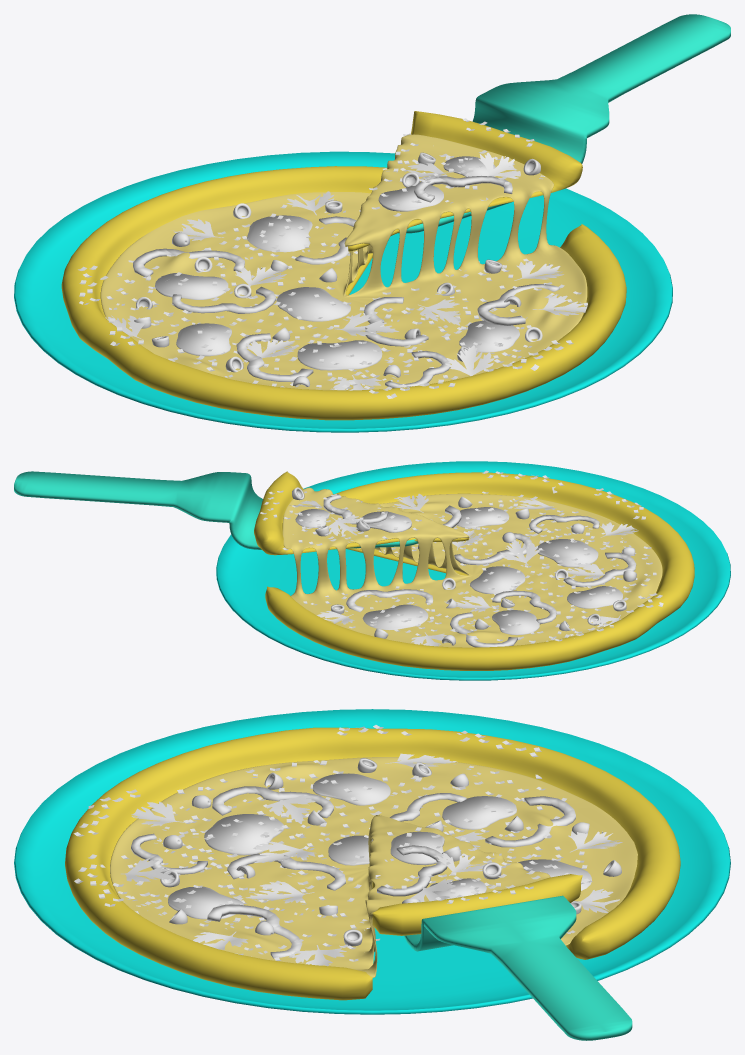
File: pizza.glb
The picture shows the model from 3 angles, top to bottom: view 1: azimuth 30°, elevation 25°; view 2: azimuth 150°, elevation 25°; view 3: azimuth 270°, elevation 25°; orthographic projection. The views are drawn at different scales.
Visible parts, largest first — view 1: cheese_Circle, dough_Cylinder, plate_Circle.001, metal_Plane.578, tomato.003_Cylinder.003, tomato.006_Cylinder.006, tomato.001_Cylinder.001, tomato.005_Cylinder.005, tomato.004_Cylinder.004, tomato.002_Cylinder.002, tomato.007_Cylinder.007, pepper.002_Plane.002 (+9 smaller); view 2: cheese_Circle, dough_Cylinder, plate_Circle.001, metal_Plane.578, tomato.003_Cylinder.003, tomato.006_Cylinder.006, tomato.001_Cylinder.001, tomato.005_Cylinder.005, tomato.004_Cylinder.004, tomato.002_Cylinder.002, pepper.002_Plane.002, pepper.004_Plane.004 (+10 smaller); view 3: cheese_Circle, plate_Circle.001, dough_Cylinder, metal_Plane.578, tomato.003_Cylinder.003, tomato.004_Cylinder.004, tomato.005_Cylinder.005, tomato.002_Cylinder.002, pepper.003_Plane.003, pepper.001_Plane.001, pepper.002_Plane.002, pepper_Plane (+15 smaller).
Part boxes in pixels (x1,y1,x2,y2): cheese_Circle: [100, 134, 587, 390]; dough_Cylinder: [61, 111, 626, 420]; plate_Circle.001: [14, 151, 672, 432]; metal_Plane.578: [398, 14, 730, 233]; tomato.003_Cylinder.003: [297, 340, 382, 370]; tomato.006_Cylinder.006: [247, 215, 312, 252]; tomato.001_Cylinder.001: [276, 287, 350, 321]; tomato.005_Cylinder.005: [155, 273, 228, 299]; tomato.004_Cylinder.004: [176, 323, 231, 356]; tomato.002_Cylinder.002: [459, 320, 519, 352]; tomato.007_Cylinder.007: [378, 185, 443, 211]; pepper.002_Plane.002: [236, 333, 313, 382]; cheese_Circle: [282, 487, 662, 647]; dough_Cylinder: [254, 471, 694, 670]; plate_Circle.001: [216, 461, 730, 680]; metal_Plane.578: [14, 471, 417, 549]; tomato.003_Cylinder.003: [536, 539, 598, 567]; tomato.006_Cylinder.006: [362, 604, 428, 630]; tomato.001_Cylinder.001: [470, 566, 525, 594]; tomato.005_Cylinder.005: [492, 610, 539, 635]; tomato.004_Cylinder.004: [567, 586, 622, 608]; tomato.002_Cylinder.002: [457, 507, 509, 528]; pepper.002_Plane.002: [563, 552, 636, 587]; pepper.004_Plane.004: [346, 589, 433, 612]; cheese_Circle: [110, 757, 637, 977]; plate_Circle.001: [14, 709, 730, 1014]; dough_Cylinder: [65, 727, 680, 1000]; metal_Plane.578: [403, 895, 632, 1040]; tomato.003_Cylinder.003: [204, 814, 283, 855]; tomato.004_Cylinder.004: [313, 773, 390, 805]; tomato.005_Cylinder.005: [442, 796, 516, 829]; tomato.002_Cylinder.002: [168, 886, 243, 919]; pepper.003_Plane.003: [485, 796, 575, 847]; pepper.001_Plane.001: [207, 904, 302, 958]; pepper.002_Plane.002: [212, 786, 333, 817]; pepper_Plane: [227, 853, 345, 890].
Bounding box in the file's own units: 15.24 × 1.75 × 11.32.
